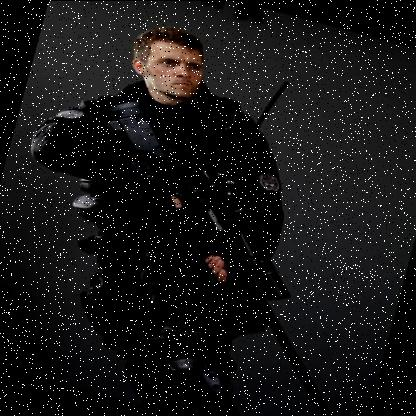rifle: (28, 91, 405, 416)
